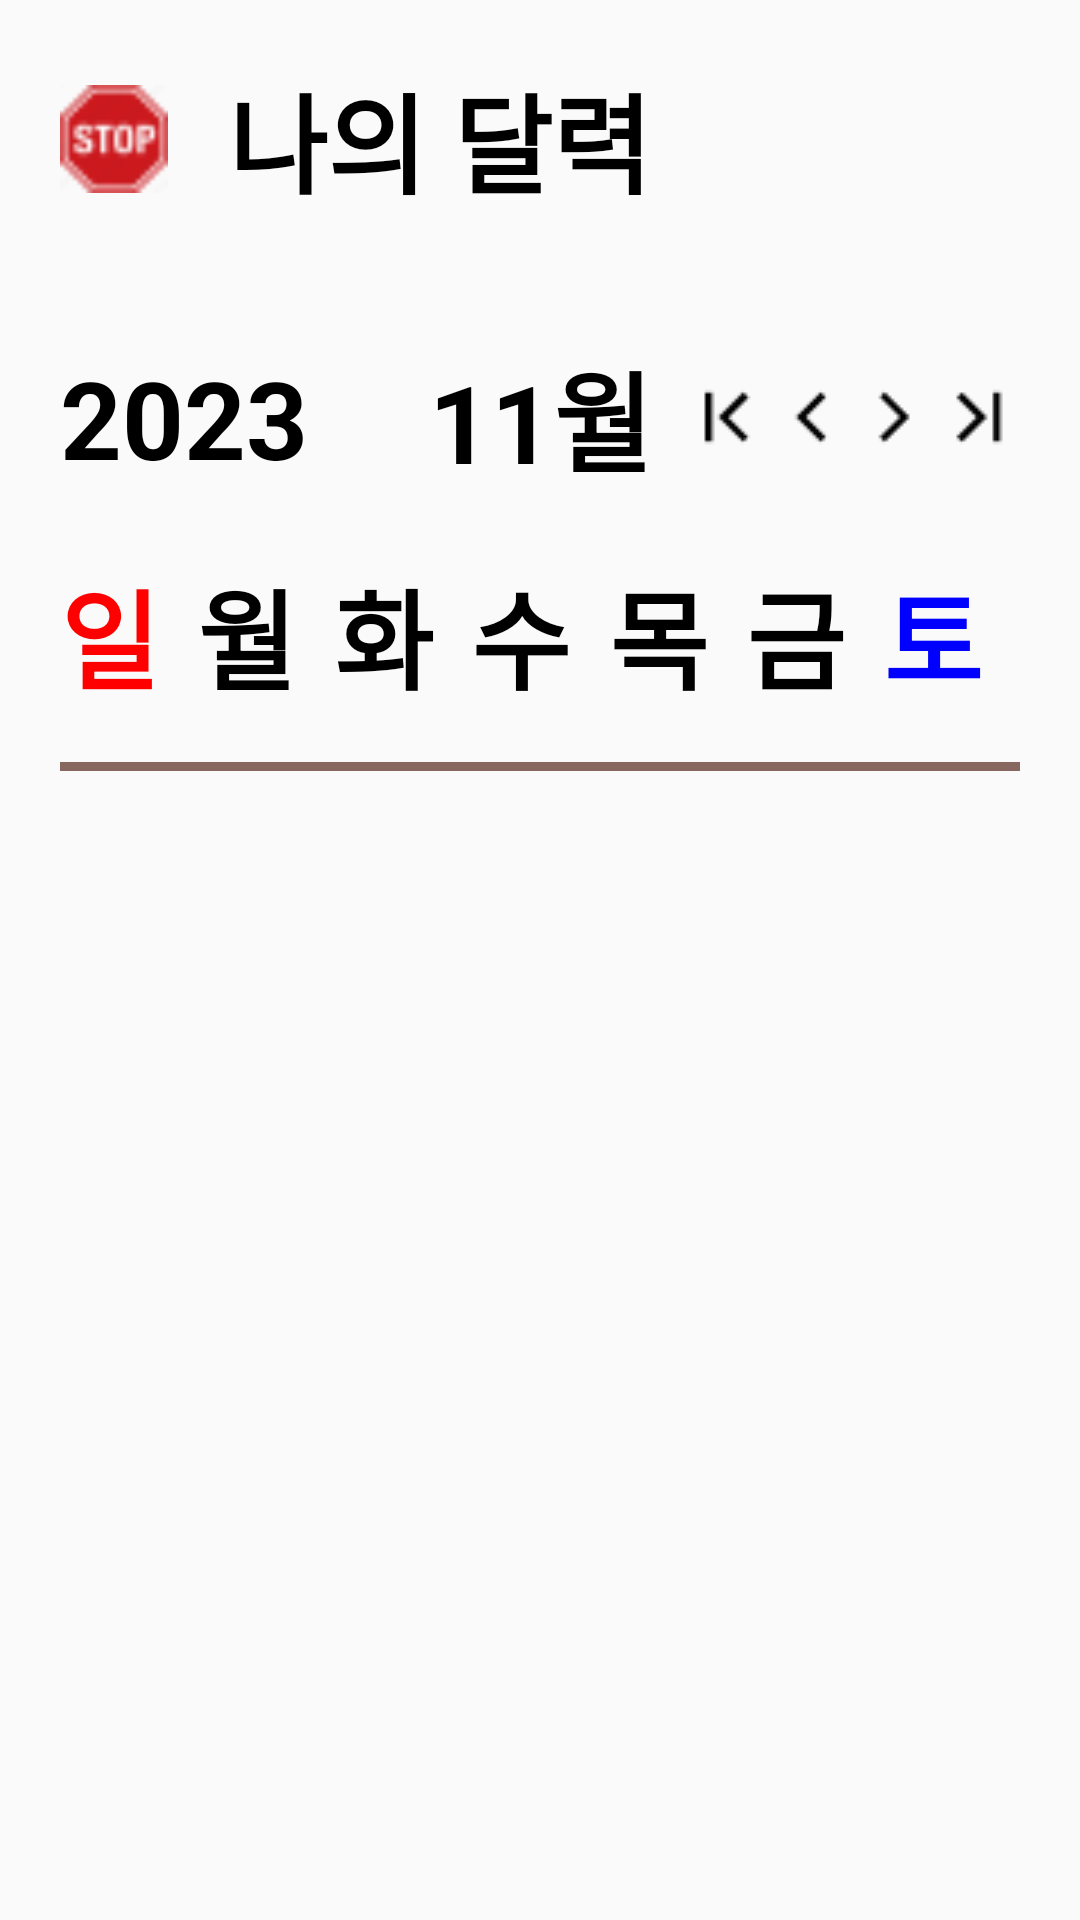

Named icons in this screenshot (1080 x 1920) and their centers, [x,y]:
next month: [894,417]
next year: [979,417]
previous month: [810,417]
previous year: [727,417]
